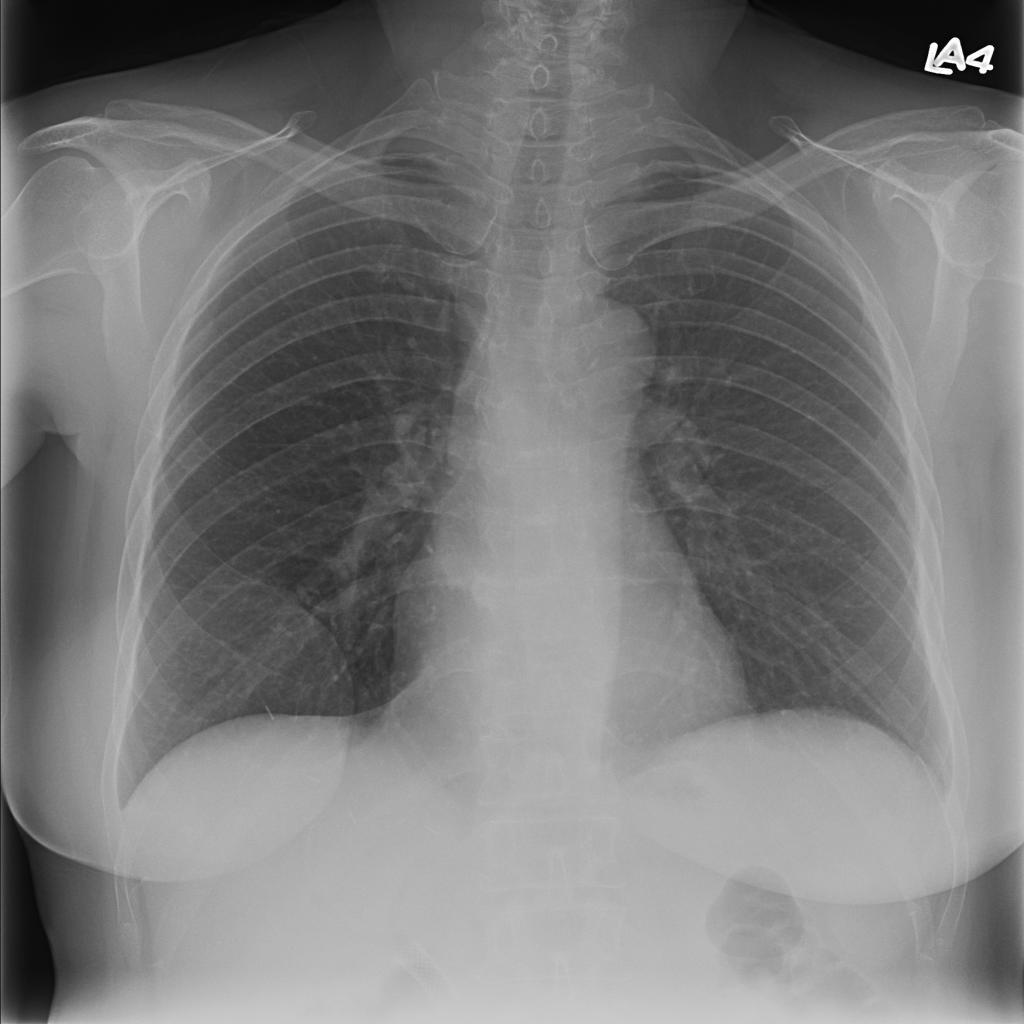Nodule: (393, 240, 441, 281), (385, 361, 424, 392)
